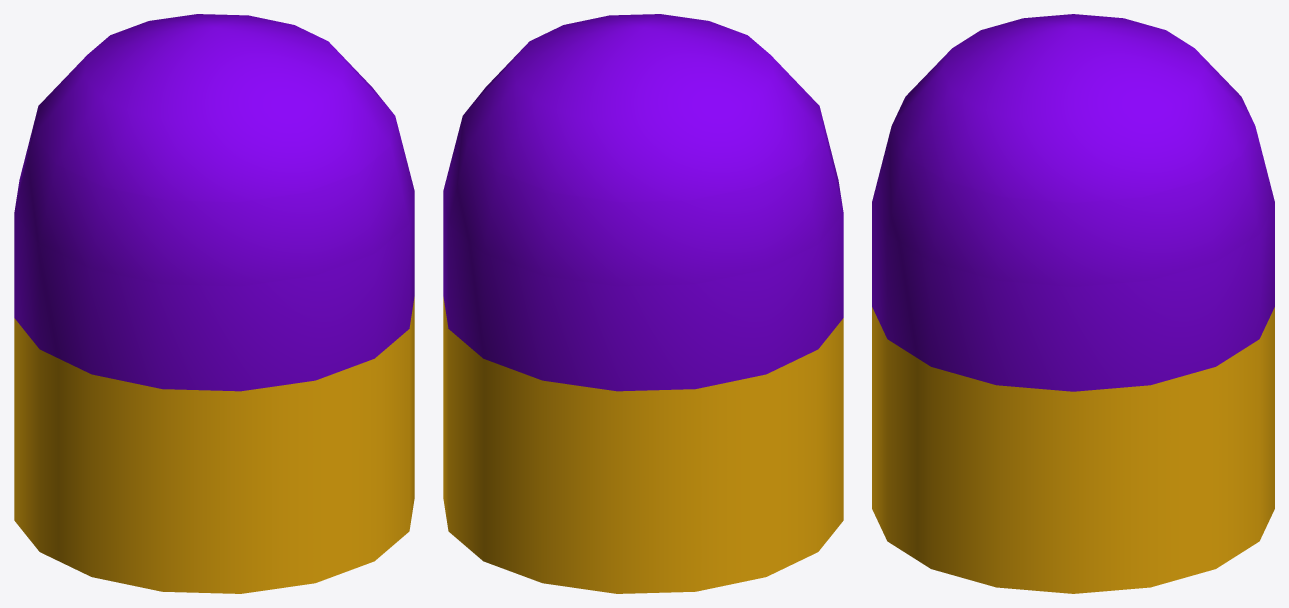
Rendered from Arm_Sleeve_L_05_L.fbx.
3 views of the same model, side by side, from view 1: azimuth 30°, elevation 25°; view 2: azimuth 150°, elevation 25°; view 3: azimuth 270°, elevation 25° (orthographic).
Parts seen in each view (by area): view 1: Arm_Sleeve_L_05_L; view 2: Arm_Sleeve_L_05_L; view 3: Arm_Sleeve_L_05_L.
Boxes of the visible parts, left/top/right/bottom form: Arm_Sleeve_L_05_L: left=14, top=14, right=414, bottom=593; Arm_Sleeve_L_05_L: left=443, top=14, right=843, bottom=593; Arm_Sleeve_L_05_L: left=872, top=14, right=1274, bottom=593.
Size of the model in its own units: 48.18 by 63.45 by 48.18.
